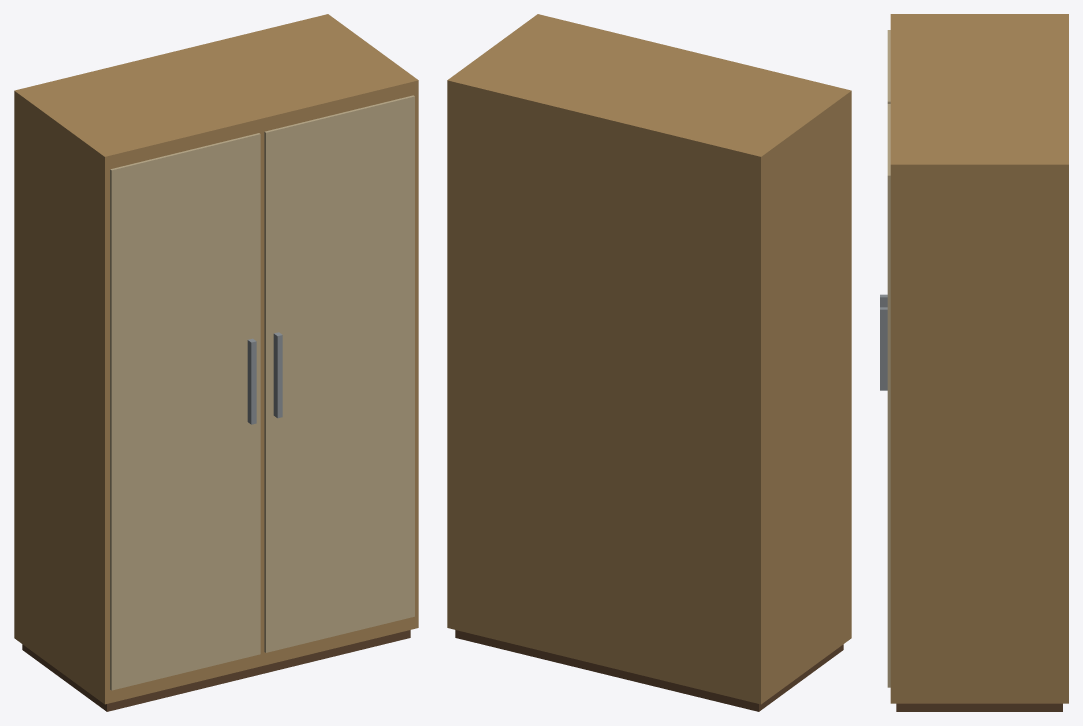
Rendered from wardrobe.glb.
The picture shows the model from 3 angles, left to right: view 1: azimuth 30°, elevation 25°; view 2: azimuth 150°, elevation 25°; view 3: azimuth 270°, elevation 25°; orthographic projection.
Parts seen in each view (by area): view 1: wardrobe; view 2: wardrobe; view 3: wardrobe.
Part boxes in pixels (box(x1,y1,x2,y2)): wardrobe: box(14, 14, 418, 711); wardrobe: box(447, 14, 851, 711); wardrobe: box(880, 14, 1068, 711).
Size of the model in its own units: 1.2 by 2.04 by 0.635.
